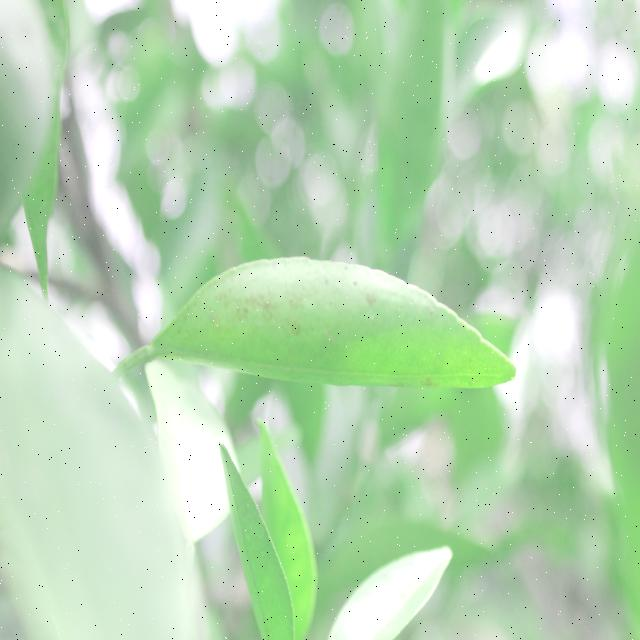blackspot: (204, 258, 486, 393)
